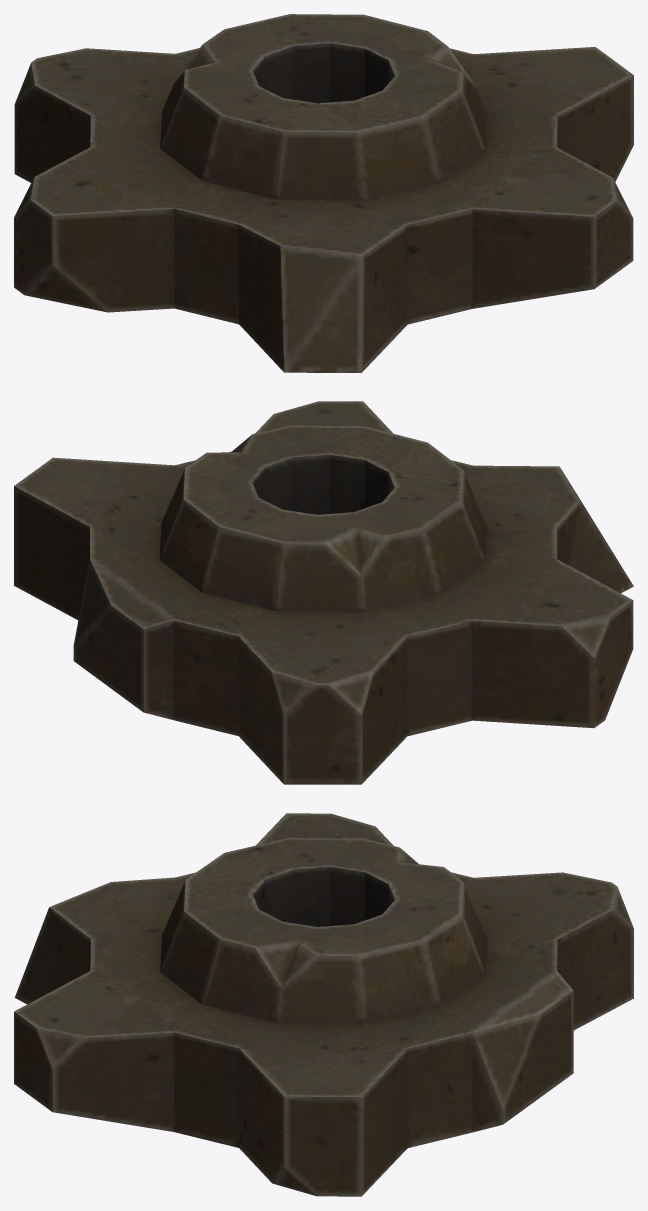
Rendered from SlagGear_Polished.glb.
The picture shows the model from 3 angles, top to bottom: view 1: azimuth 30°, elevation 25°; view 2: azimuth 150°, elevation 25°; view 3: azimuth 270°, elevation 25°; orthographic projection.
Visible parts, largest first — view 1: SlagGear_Polished; view 2: SlagGear_Polished; view 3: SlagGear_Polished.
Boxes of the visible parts, x1,y1,x2,y2 form: SlagGear_Polished: (14, 14, 633, 372); SlagGear_Polished: (14, 401, 633, 784); SlagGear_Polished: (14, 813, 633, 1196).
Size of the model in its own units: 0.4552 by 0.1182 by 0.4208.
1 material, 1 textured.
